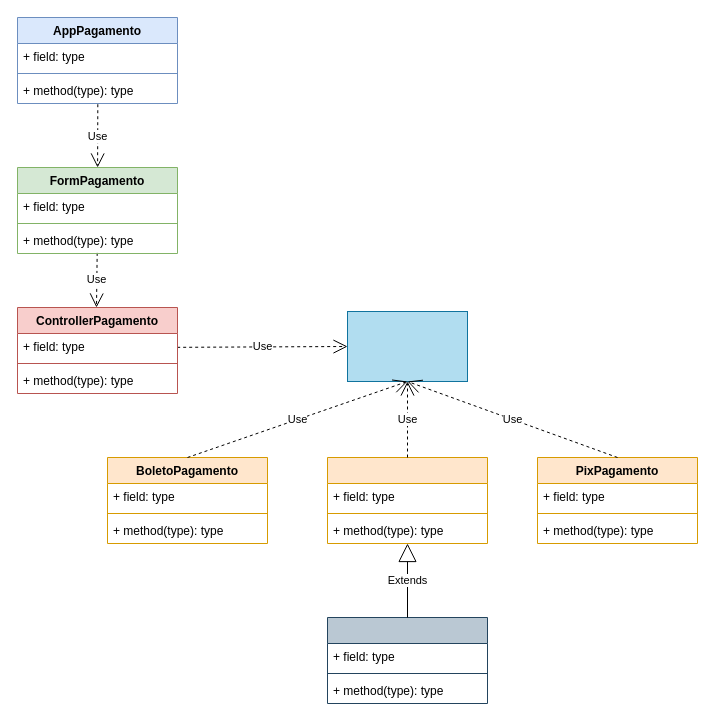
Some shapes in this 715 by 724 pixel diagram are drawn without their labels. The shapes that lost their labels are listed below. From the top down, each one's box as (x1, y1, x2, y2) in pixels, then its label:
(346, 310, 468, 382): «interface» Pagamento
(326, 456, 488, 544): CartaoPagamento
(326, 616, 488, 704): CartaoCreditoPagamento
